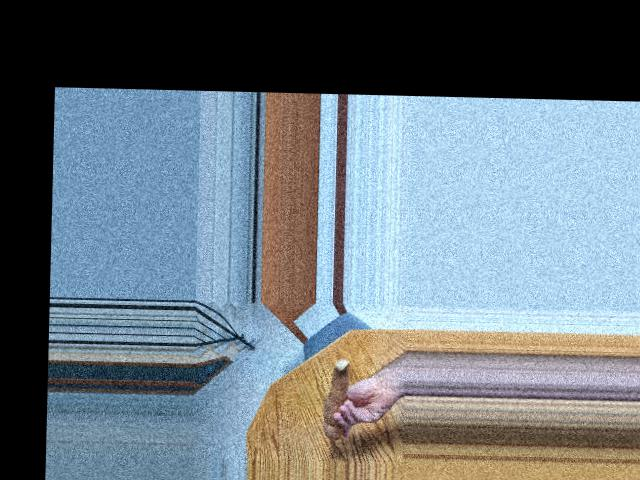sweet_potato: (320, 361, 357, 441)
